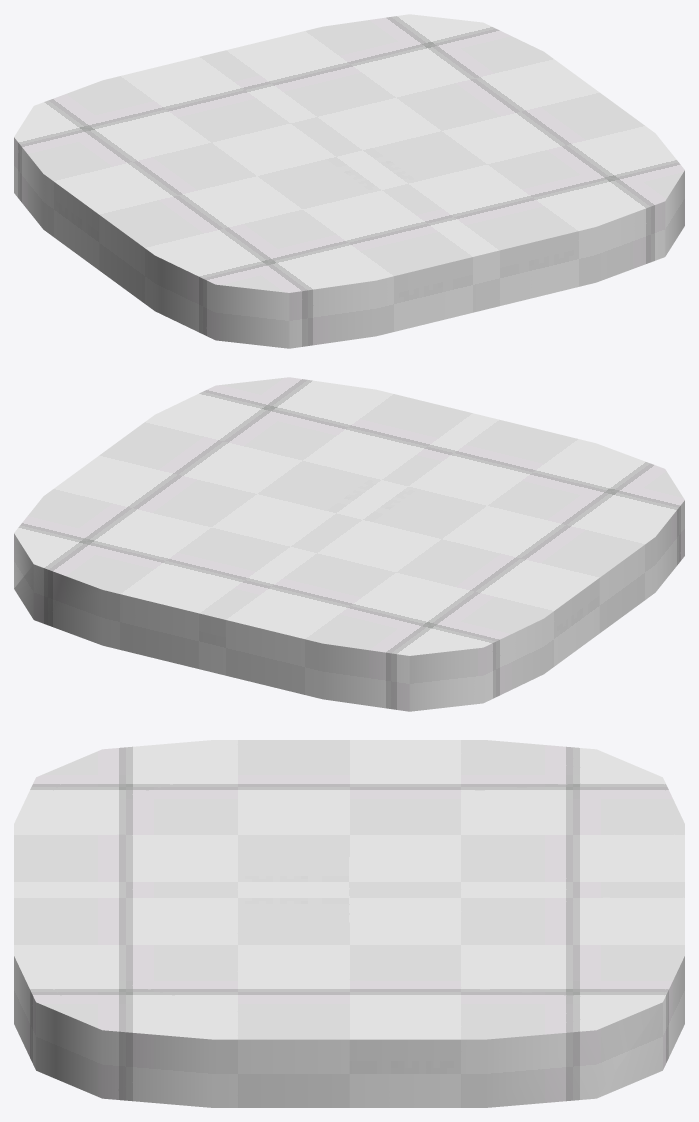
Rendered from Pre_Elevator_platform.FBX.
The picture shows the model from 3 angles, top to bottom: view 1: azimuth 30°, elevation 25°; view 2: azimuth 150°, elevation 25°; view 3: azimuth 270°, elevation 25°; orthographic projection. The views are drawn at different scales.
Parts seen in each view (by area): view 1: Pre_Elevator_platform; view 2: Pre_Elevator_platform; view 3: Pre_Elevator_platform.
Part boxes in pixels (x1=…): Pre_Elevator_platform: x1=14, y1=14, x2=684, y2=348; Pre_Elevator_platform: x1=14, y1=377, x2=684, y2=711; Pre_Elevator_platform: x1=14, y1=740, x2=684, y2=1107.
Size of the model in its own units: 6.34 by 0.6748 by 6.
